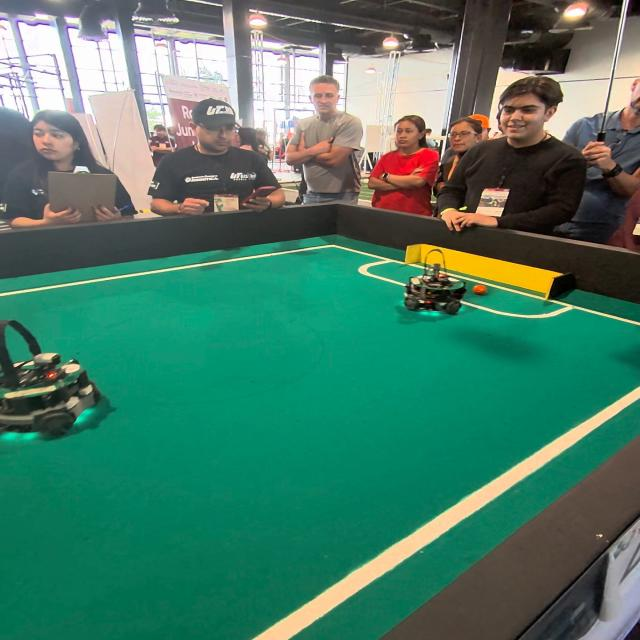Robot: (1, 308, 111, 442), (402, 244, 467, 320)
pelota: (474, 284, 490, 295)
